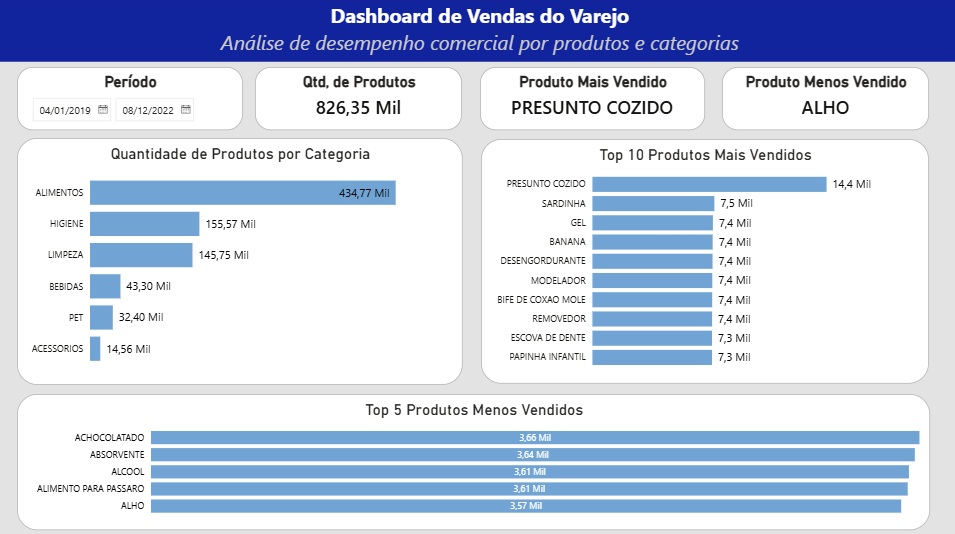

What the dashboard file says about the page in this screenshot:
{"tool":"powerbi","page":{"name":"Varejo","canvas":[1280,720],"ordinal":0},"visuals":[{"type":"clusteredBarChart","title":"Quantidade de Produtos por Categoria","fields":{"Category":["Base Varejo.Categoria dos produtos"],"Y":["CountNonNull(Base Varejo.Categoria dos produtos)"]},"box":[24.8,187.2,591.8,327.6],"z":0},{"type":"clusteredBarChart","title":"Top 5 Produtos Menos Vendidos ","fields":{"Category":["Base Varejo.Produtos"],"Y":["CountNonNull(Base Varejo.Produtos)"]},"box":[25.2,527.5,1212.8,181.4],"z":1000},{"type":"cardVisual","title":"Qtd, de Produtos","fields":{"Data":["CountNonNull(Base Varejo.Produtos)"]},"box":[341.3,93.6,275.3,84],"z":2000},{"type":"cardVisual","title":" Produto Mais Vendido","fields":{"Data":["Base Varejo.Produto Mais Vendido"]},"box":[640,93.6,298.7,84],"z":3000},{"type":"cardVisual","title":"Produto Menos Vendido","fields":{"Data":["Base Varejo.Produto Menos Vendido"]},"box":[962.1,93.6,275.3,84],"z":4000},{"type":"clusteredBarChart","title":"Top 10 Produtos Mais Vendidos","fields":{"Category":["Base Varejo.Produtos"],"Y":["CountNonNull(Base Varejo.Produtos)"]},"box":[641.4,188.6,594.6,324.8],"z":5000},{"type":"textbox","box":[0,0,1280.5,86.3],"z":6000},{"type":"slicer","title":"Período","fields":{"Values":["Base Varejo.DATA"]},"box":[24.8,93.6,300,84],"z":7000}]}

Visuals, with their boxes in screenshot pixels (x1, y1, x2, y2), scaled from the page's 1280x720 canvas onto the 955x534 screenshot:
"Quantidade de Produtos por Categoria" clusteredBarChart: x1=19 y1=139 x2=460 y2=382
"Top 5 Produtos Menos Vendidos " clusteredBarChart: x1=19 y1=391 x2=924 y2=526
"Qtd, de Produtos" cardVisual: x1=255 y1=69 x2=460 y2=132
" Produto Mais Vendido" cardVisual: x1=478 y1=69 x2=700 y2=132
"Produto Menos Vendido" cardVisual: x1=718 y1=69 x2=923 y2=132
"Top 10 Produtos Mais Vendidos" clusteredBarChart: x1=479 y1=140 x2=922 y2=381
textbox: x1=0 y1=0 x2=954 y2=64
"Período" slicer: x1=19 y1=69 x2=242 y2=132
